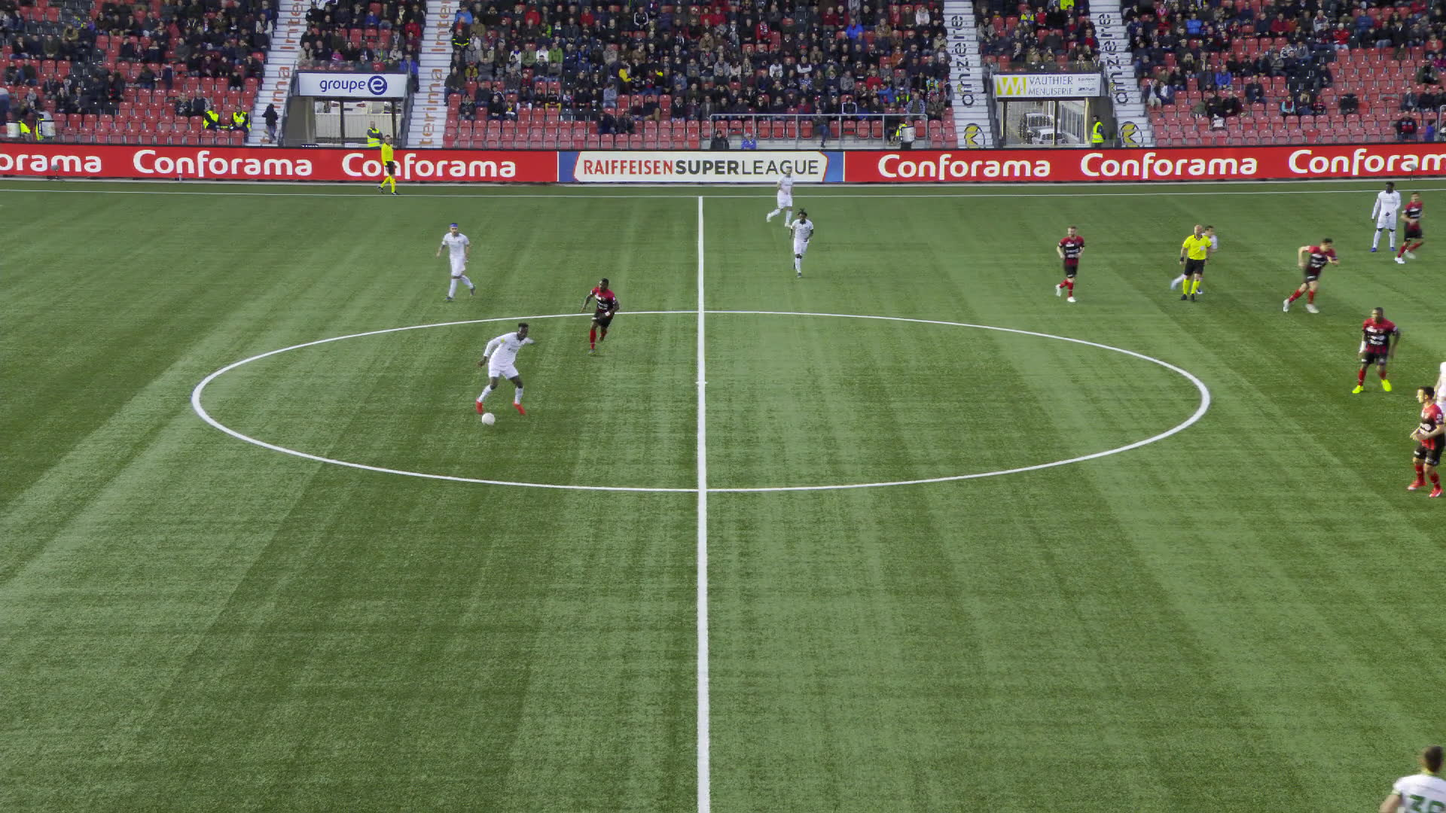ball: (481, 411, 494, 424)
player: (473, 321, 529, 416), (1374, 749, 1445, 812), (1349, 307, 1396, 397), (1405, 387, 1442, 498), (1285, 238, 1336, 312), (1166, 226, 1213, 294), (438, 222, 475, 300), (583, 278, 619, 354), (1053, 225, 1082, 303), (1371, 181, 1400, 251), (1395, 193, 1423, 263), (788, 206, 813, 277), (765, 166, 791, 228), (1429, 356, 1445, 424)
referee: (1179, 225, 1212, 302), (377, 135, 399, 196)
